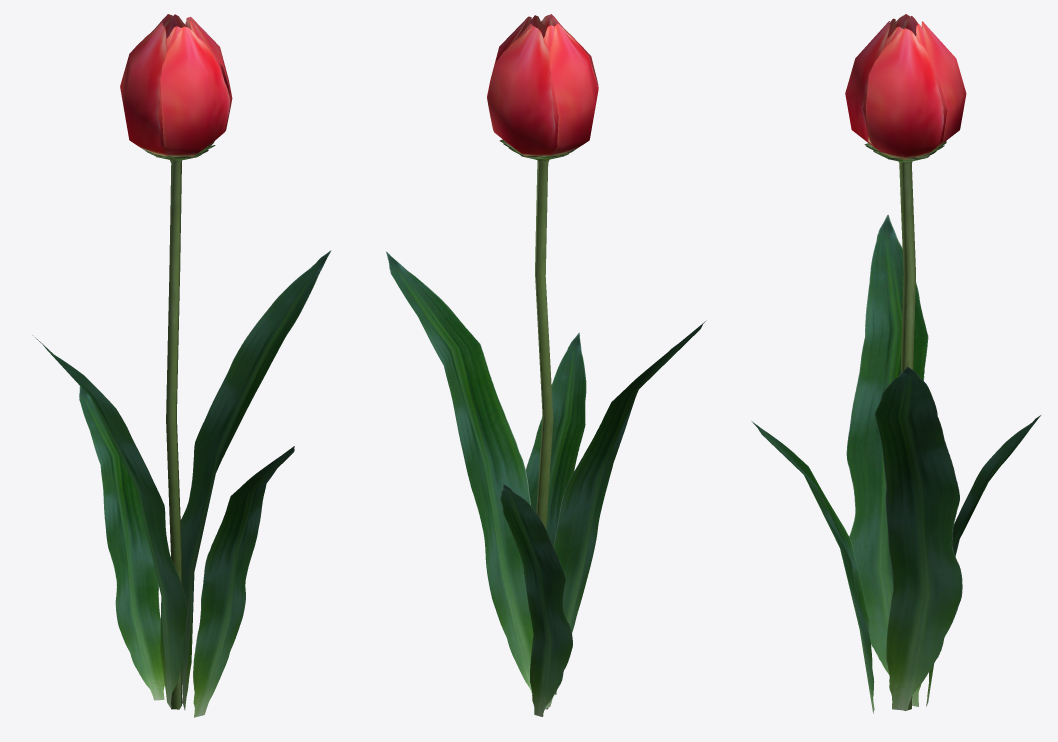
Rendered from Tulip_01.FBX.
3 views of the same model, side by side, from view 1: azimuth 30°, elevation 25°; view 2: azimuth 150°, elevation 25°; view 3: azimuth 270°, elevation 25° (orthographic).
Parts seen in each view (by area): view 1: Tulip_01; view 2: Tulip_01; view 3: Tulip_01.
Part boxes in pixels (box(x1,y1,x2,y2)): Tulip_01: box(32, 14, 331, 717); Tulip_01: box(386, 14, 706, 716); Tulip_01: box(751, 14, 1040, 713).
Size of the model in its own units: 0.5791 by 1.19 by 0.4641.
